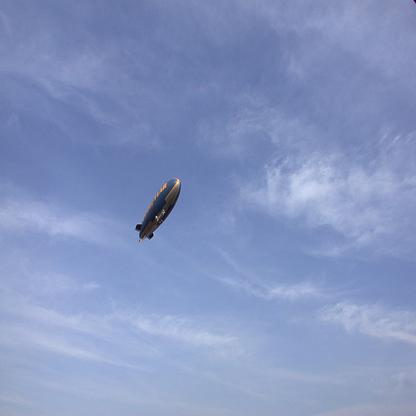Airship: (135, 175, 187, 247)
